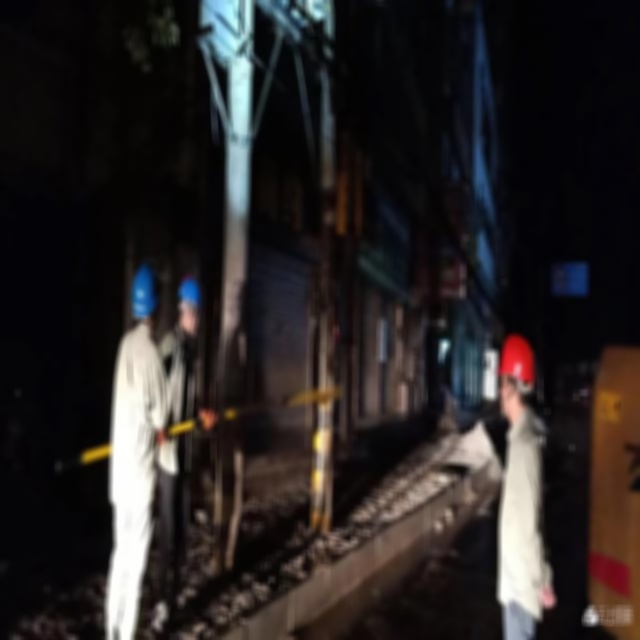Con_Casco: (498, 335, 533, 409), (131, 263, 161, 325)
